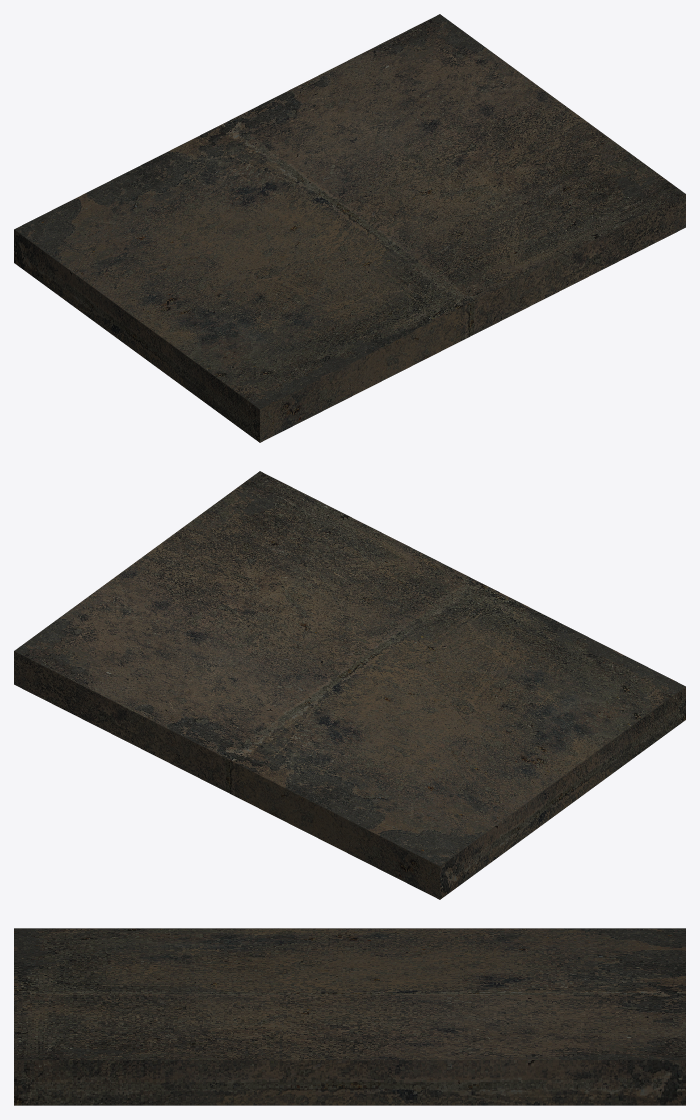
Rendered from floor_ceiling_hs_1_slope.glb.
3 views of the same model, one above another, from view 1: azimuth 30°, elevation 25°; view 2: azimuth 150°, elevation 25°; view 3: azimuth 270°, elevation 25° (orthographic). The views are drawn at different scales.
Parts seen in each view (by area): view 1: floor_ceiling_hs_1_slope; view 2: floor_ceiling_hs_1_slope; view 3: floor_ceiling_hs_1_slope.
Boxes of the visible parts, x1,y1,x2,y2 form: floor_ceiling_hs_1_slope: (14,14,685,442); floor_ceiling_hs_1_slope: (14,471,685,899); floor_ceiling_hs_1_slope: (14,928,685,1105).
Size of the model in its own units: 4 by 1.3 by 4.
Materials: 1 (1 with a texture image).
